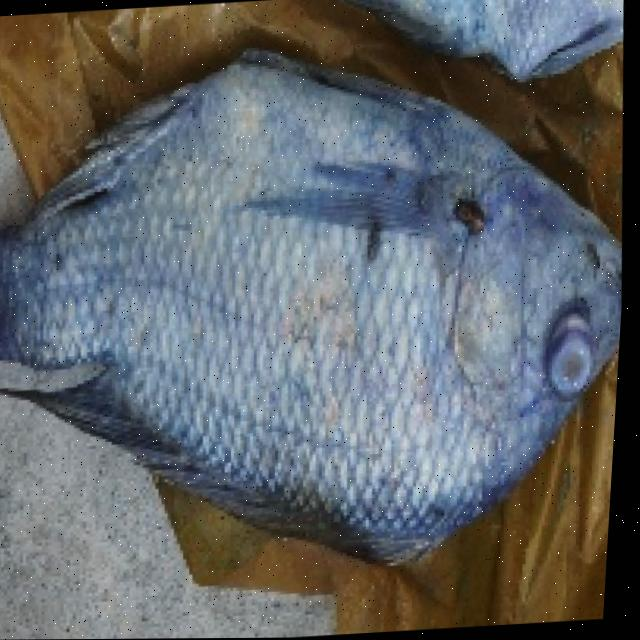Non-Fresh: (120, 151, 511, 440), (524, 306, 614, 406)
